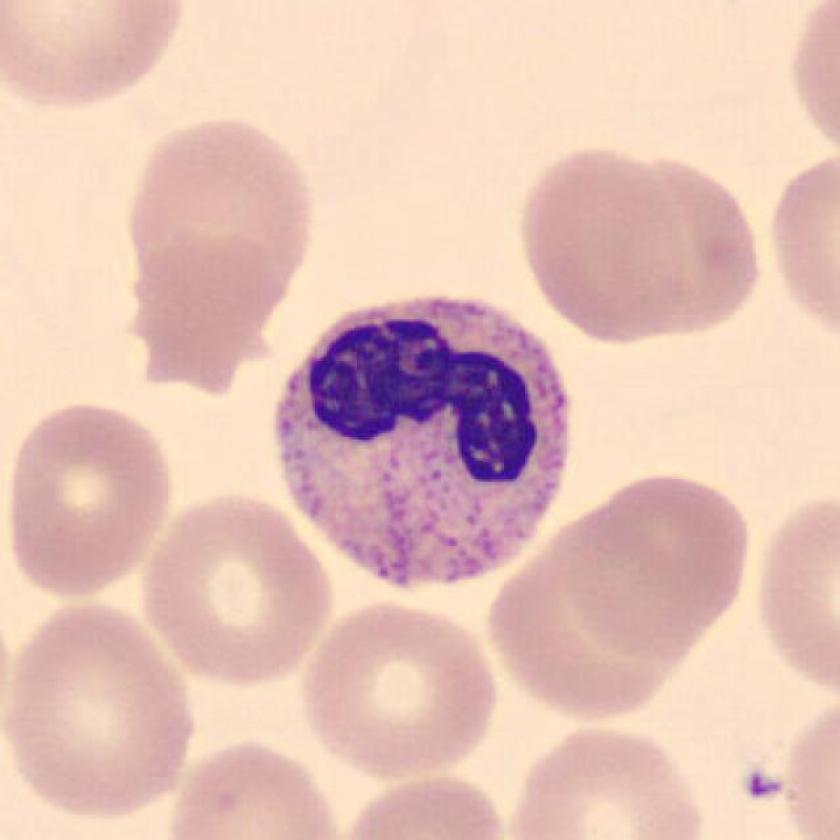neutrophil: (276, 295, 570, 585)
